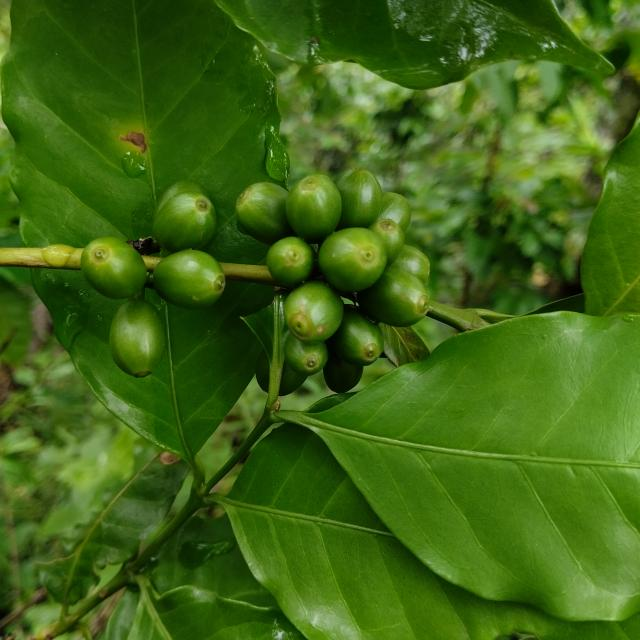green: (152, 179, 216, 252), (109, 297, 165, 378), (318, 227, 387, 292), (358, 266, 430, 327), (152, 249, 225, 309), (152, 188, 216, 252), (80, 237, 146, 299), (80, 237, 146, 299), (285, 174, 342, 243), (284, 280, 344, 344), (236, 182, 293, 245), (329, 305, 384, 366), (335, 167, 382, 230), (266, 236, 315, 287), (323, 343, 364, 393), (284, 333, 328, 376), (369, 218, 405, 265), (369, 219, 405, 265), (392, 245, 430, 284), (378, 192, 411, 232)
